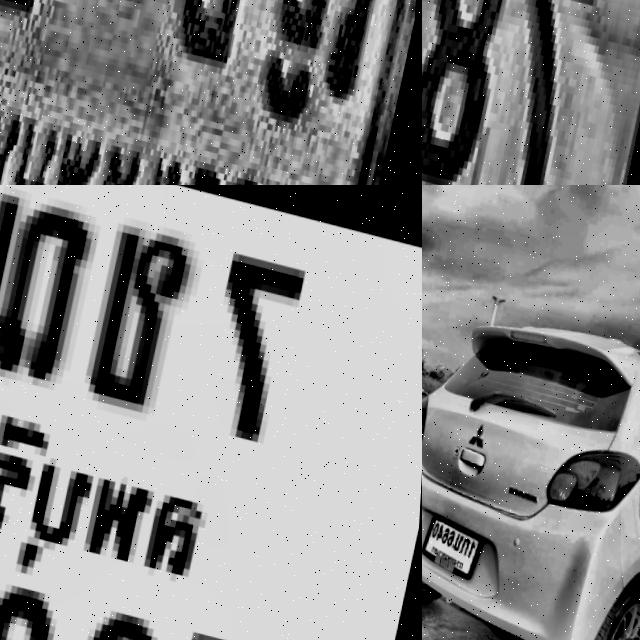license-plate: (0, 185, 422, 640), (0, 0, 422, 185), (422, 0, 640, 185), (422, 504, 495, 581)
